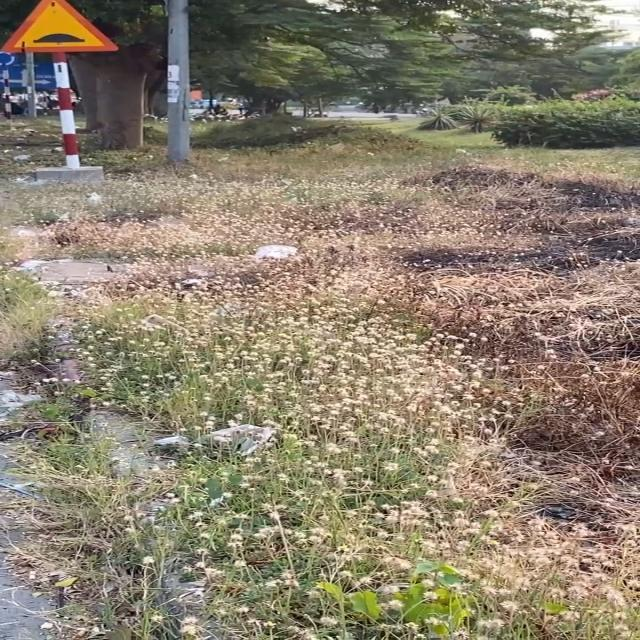221-duong-go-ghe: (0, 1, 121, 53)
303-noi-giao-nhau-chay-theo-vong-xuyen: (0, 50, 16, 68)
